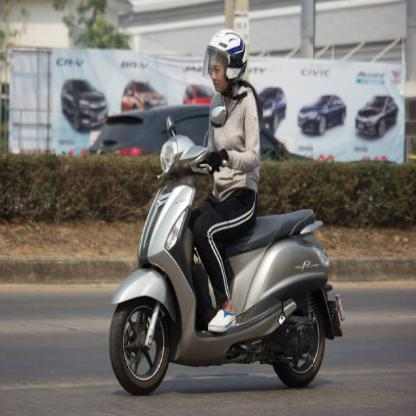Motorcycle: (102, 108, 344, 396)
